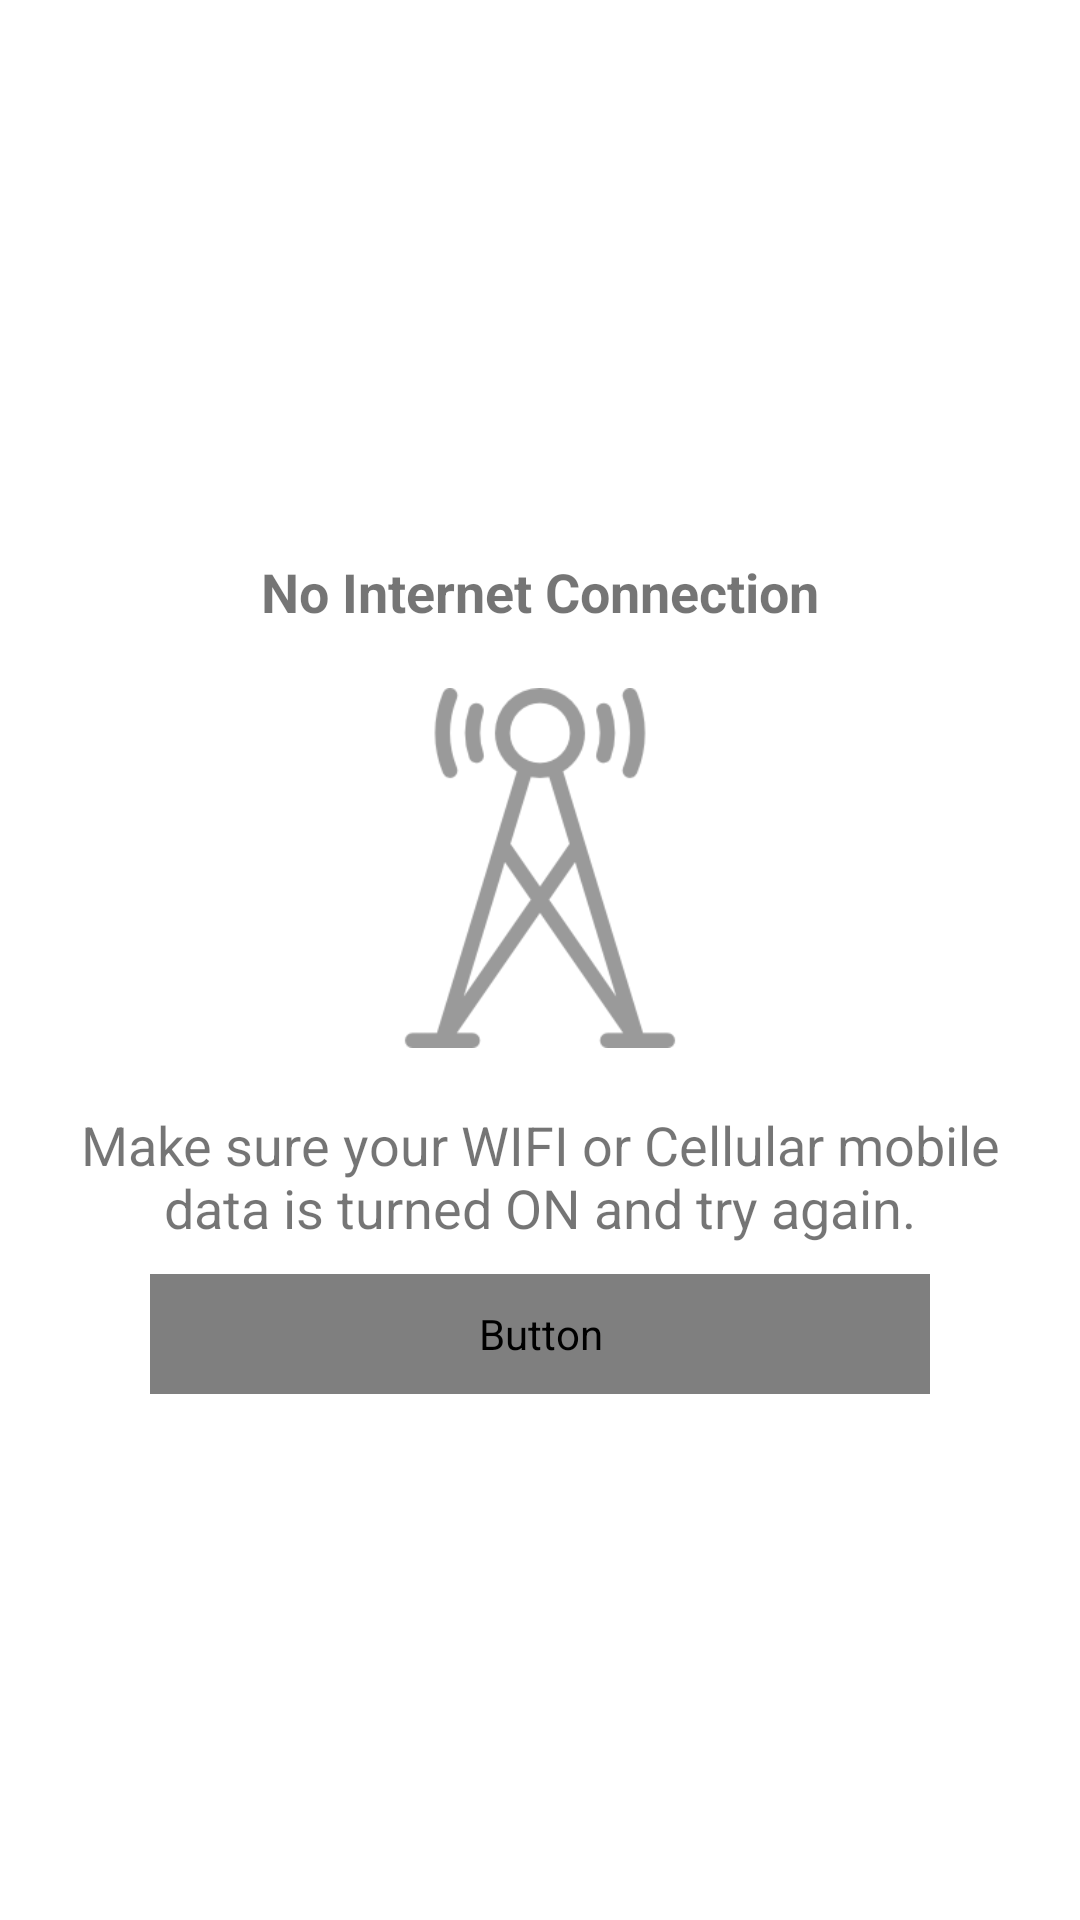

Icons on this 1080*1920 Android screen, each with its box as (x1, y1, x2, y2):
antenna: (405, 688, 675, 1048)
